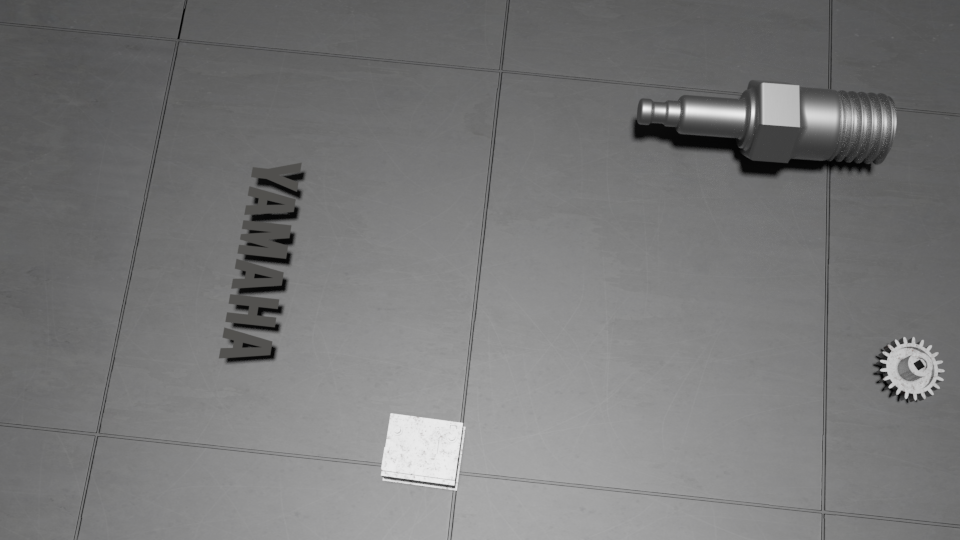yamaha_letters: (218, 162, 302, 359)
